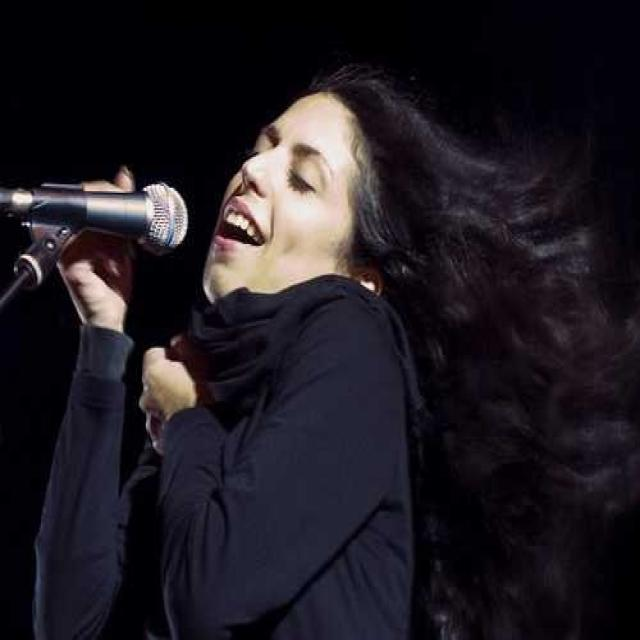microphone: (10, 160, 200, 307)
